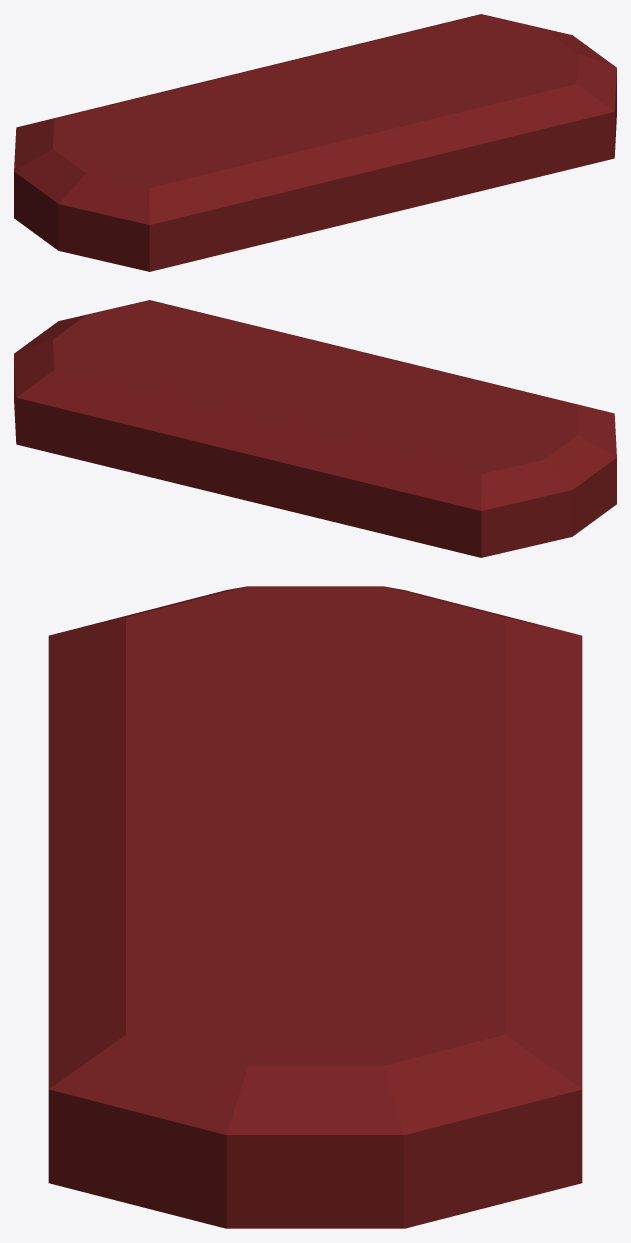
The model's file is MedievalUI.fbx_Collection.fbx.
3 renders of one model, top to bottom at view 1: azimuth 30°, elevation 25°; view 2: azimuth 150°, elevation 25°; view 3: azimuth 270°, elevation 25°, orthographic. The views are drawn at different scales.
Parts seen in each view (by area): view 1: Button; view 2: Button; view 3: Button.
Part boxes in pixels (bbox=[...]): Button: bbox=[14, 14, 616, 271]; Button: bbox=[14, 300, 616, 557]; Button: bbox=[48, 586, 582, 1228].
Size of the model in its own units: 153 by 63.26 by 17.03.
